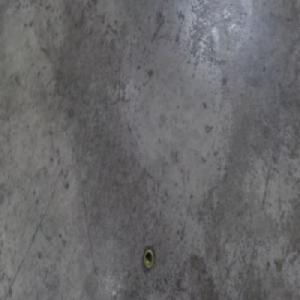Nut: (143, 246, 155, 272)
